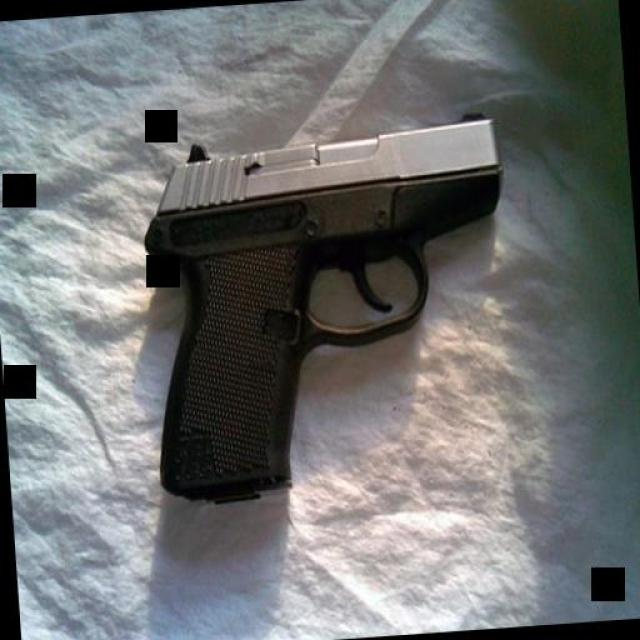gun: (137, 106, 525, 505)
